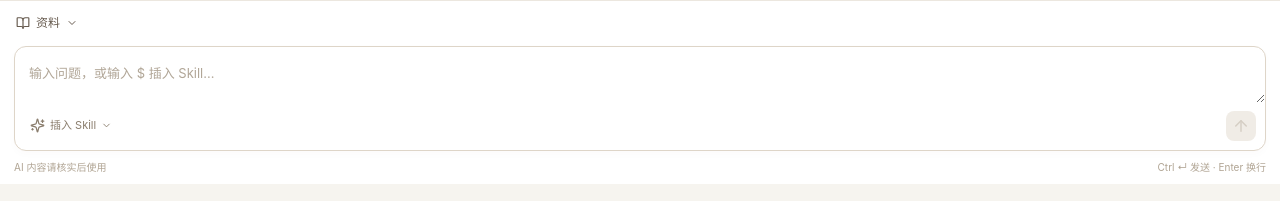
sends the draft and clears it for the next message
Type "生成一个案例" into the text box named "向 AI 提问" at (640, 75), box [15, 47, 1265, 103]
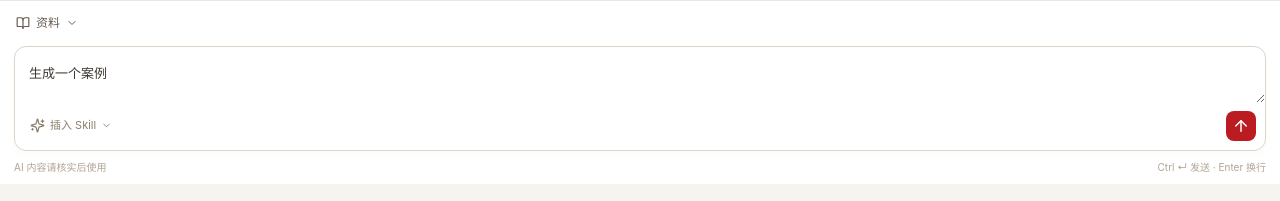
Click the button named "发送" at (1241, 126), box [1226, 111, 1256, 141]
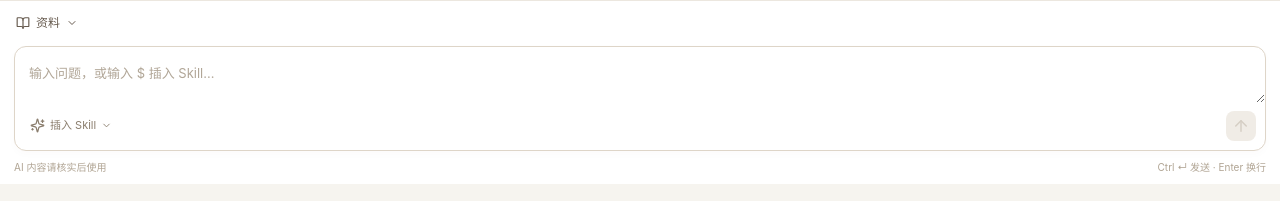
Expected: the text box named "向 AI 提问" is empty, [15, 47, 1265, 103]
Expected: the button named "发送" is disabled, [1226, 111, 1256, 141]
